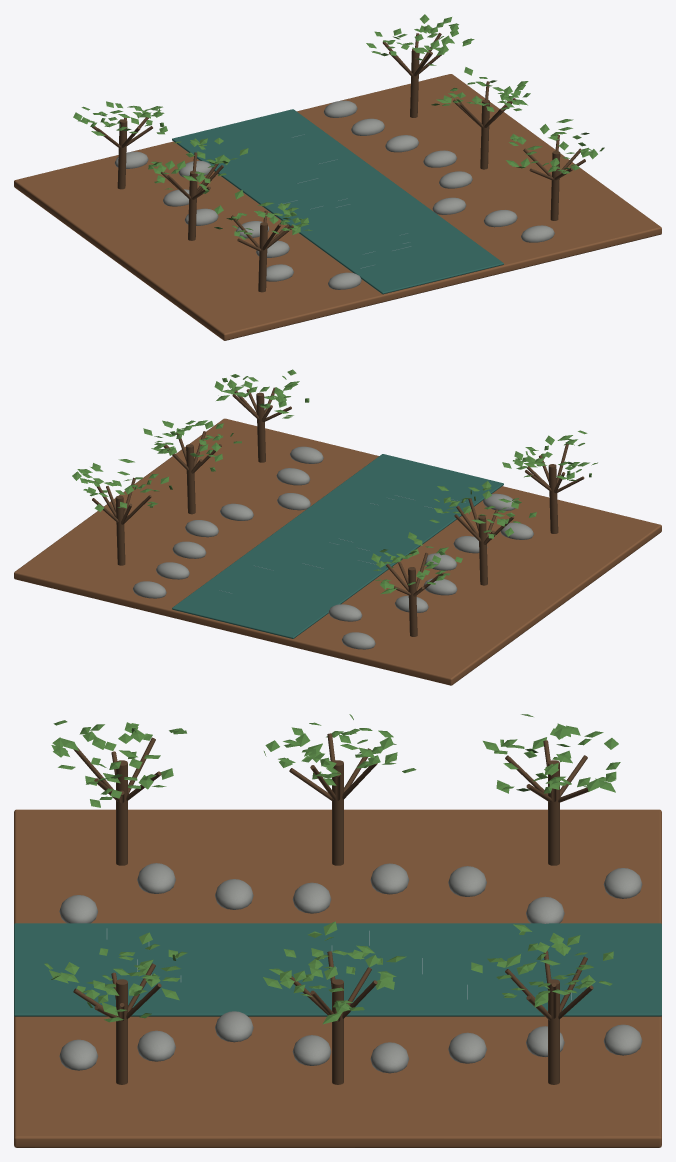
File: river-landscape.glb
3 renders of one model, top to bottom at view 1: azimuth 30°, elevation 25°; view 2: azimuth 150°, elevation 25°; view 3: azimuth 270°, elevation 25°, orthographic. The views are drawn at different scales.
Visible parts, largest first — view 1: Earth plot, River, Trunk, Trunk.004, Trunk.002, Trunk.001, Trunk.005, Trunk.003; view 2: Earth plot, River, Trunk, Trunk.002, Trunk.004, Trunk.001, Trunk.003, Trunk.005, Riverbank stone.006, Riverbank stone.013, Riverbank stone.014, Riverbank stone.007 (+6 smaller); view 3: Earth plot, River, Trunk.003, Trunk, Trunk.005, Trunk.001, Trunk.004, Trunk.002, Riverbank stone.008, Riverbank stone.003, Riverbank stone.004, Riverbank stone.007 (+12 smaller).
Boxes of the visible parts, <box> form: Earth plot: <box>14,74,661,340</box>; River: <box>172,109,503,294</box>; Trunk: <box>258,222,267,292</box>; Trunk.004: <box>480,99,489,169</box>; Trunk.002: <box>117,119,127,189</box>; Trunk.001: <box>188,171,197,240</box>; Trunk.005: <box>410,48,419,117</box>; Trunk.003: <box>550,151,560,220</box>; Earth plot: <box>14,418,661,685</box>; River: <box>172,454,503,638</box>; Trunk: <box>548,464,558,533</box>; Trunk.002: <box>408,567,417,636</box>; Trunk.004: <box>186,444,195,514</box>; Trunk.001: <box>478,515,487,585</box>; Trunk.003: <box>256,392,265,462</box>; Trunk.005: <box>115,495,125,565</box>; Riverbank stone.006: <box>328,604,362,621</box>; Riverbank stone.013: <box>172,541,206,558</box>; Riverbank stone.014: <box>156,562,189,579</box>; Riverbank stone.007: <box>342,632,375,649</box>; Earth plot: <box>14,809,661,1147</box>; River: <box>14,923,661,1016</box>; Trunk.003: <box>116,979,127,1084</box>; Trunk: <box>116,760,127,865</box>; Trunk.005: <box>548,979,559,1084</box>; Trunk.001: <box>332,760,343,865</box>; Trunk.004: <box>332,979,343,1084</box>; Trunk.002: <box>548,760,559,865</box>; Riverbank stone.008: <box>59,1039,98,1070</box>; Riverbank stone.003: <box>292,882,331,913</box>; Riverbank stone.004: <box>370,863,409,894</box>; Riverbank stone.007: <box>603,868,642,898</box>.
Bounding box in the file's own units: 18 × 3.81 × 15.
Materials: 6 (1 with a texture image).
